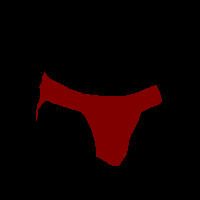mutande: (36, 71, 162, 166)
